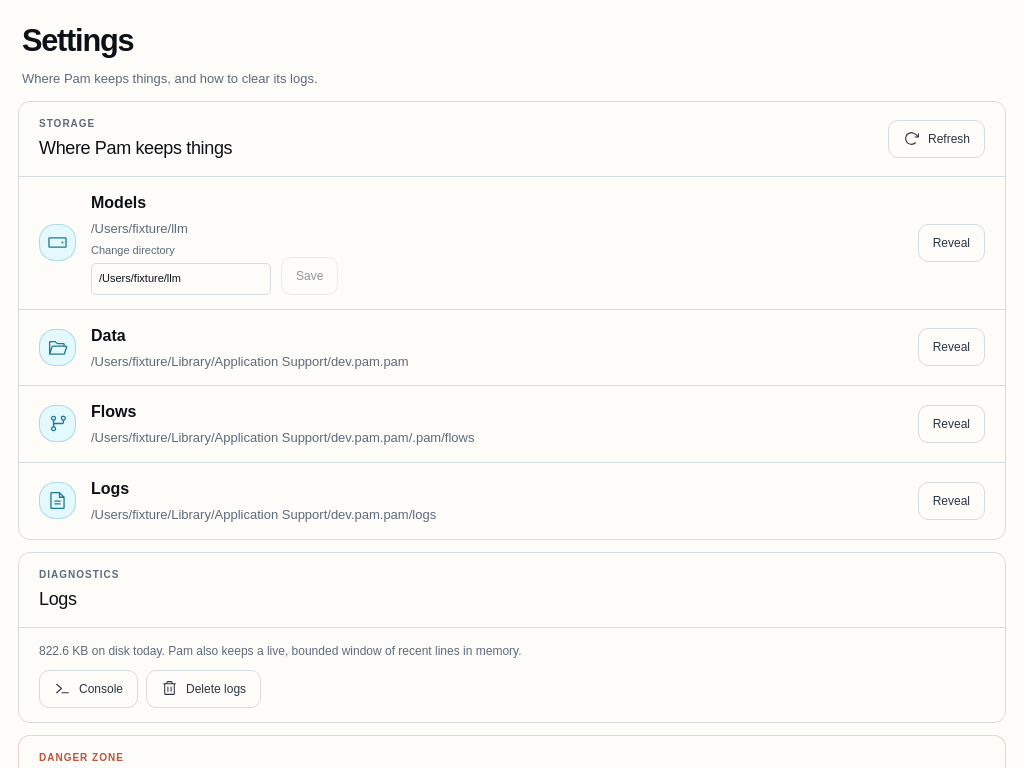
Test: SettingsView › deletes on-disk logs only after an explicit confirmation step
The width and height of the screenshot is (1024, 768).
Expected: the text "on disk today" is shown, [88,644,522,658]
What coordinates should you click on to do the following:
click the button "Delete logs"
I would click on:
 (204, 689)
Its box is [146,670,261,708].
(page scrolled)
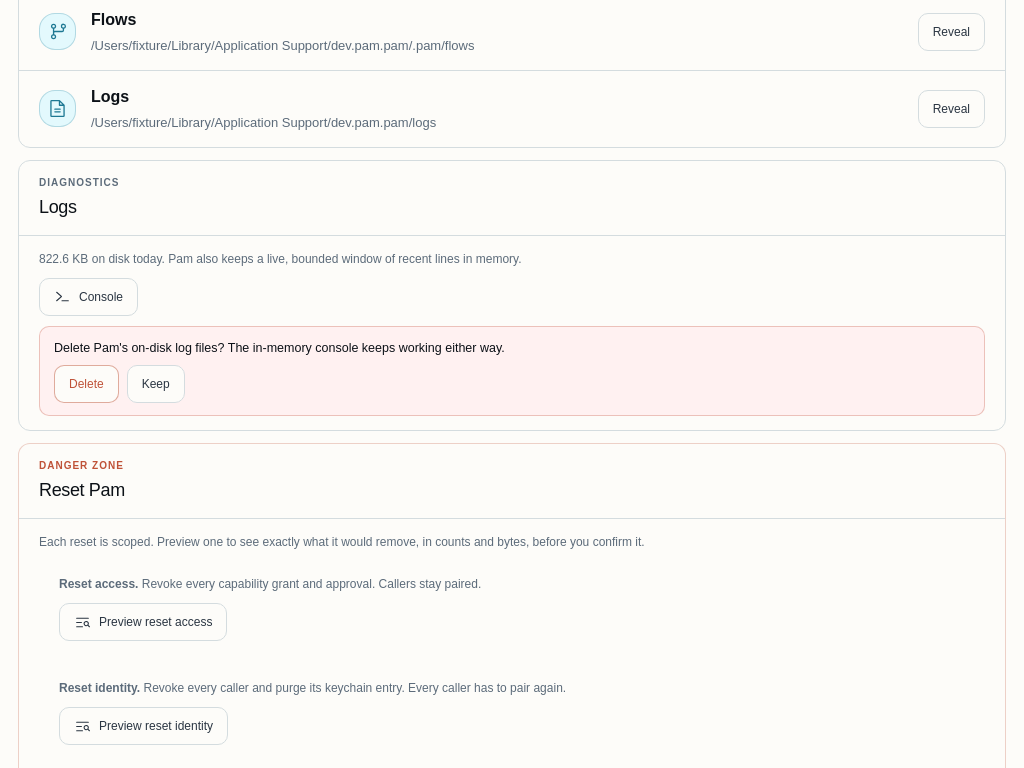
Now the text "Delete Pam's on-disk log files?" is shown, box [54,341,505,355]
What coordinates should you click on to do the following:
click the button "Keep"
I would click on:
 (156, 384)
Its box is [127,365,185,403].
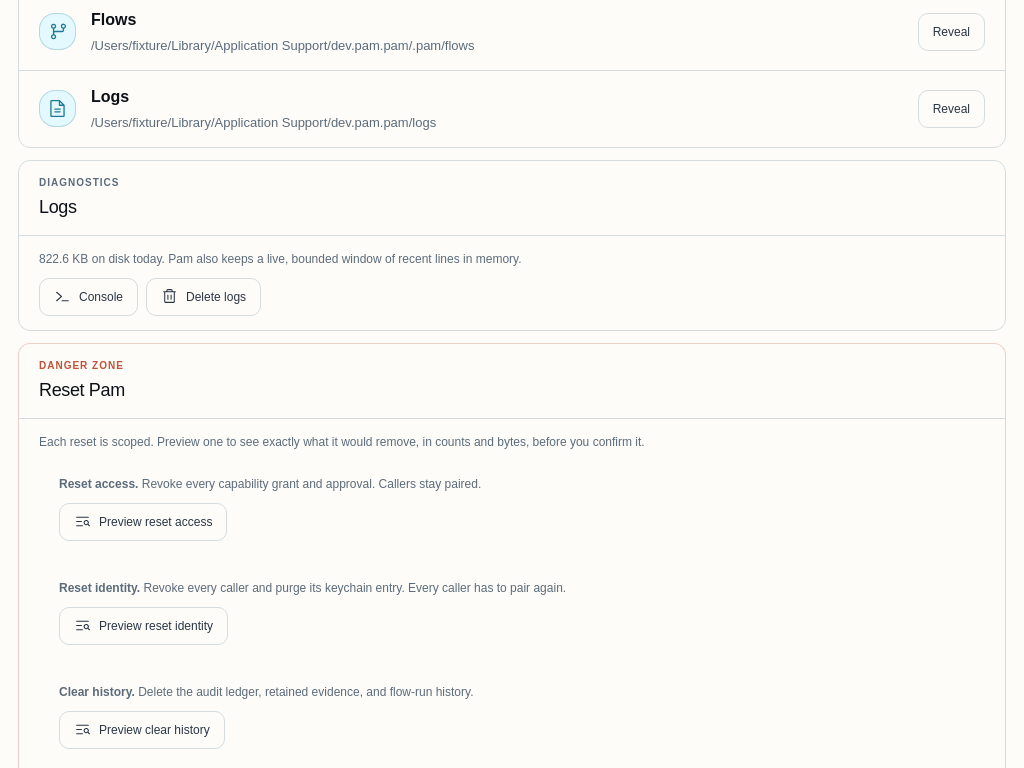
Now the text "Delete Pam's on-disk log files?" is gone
What coordinates should you click on to do the following:
click the button "Delete logs"
I would click on:
 (204, 297)
Its box is [146,278,261,316].
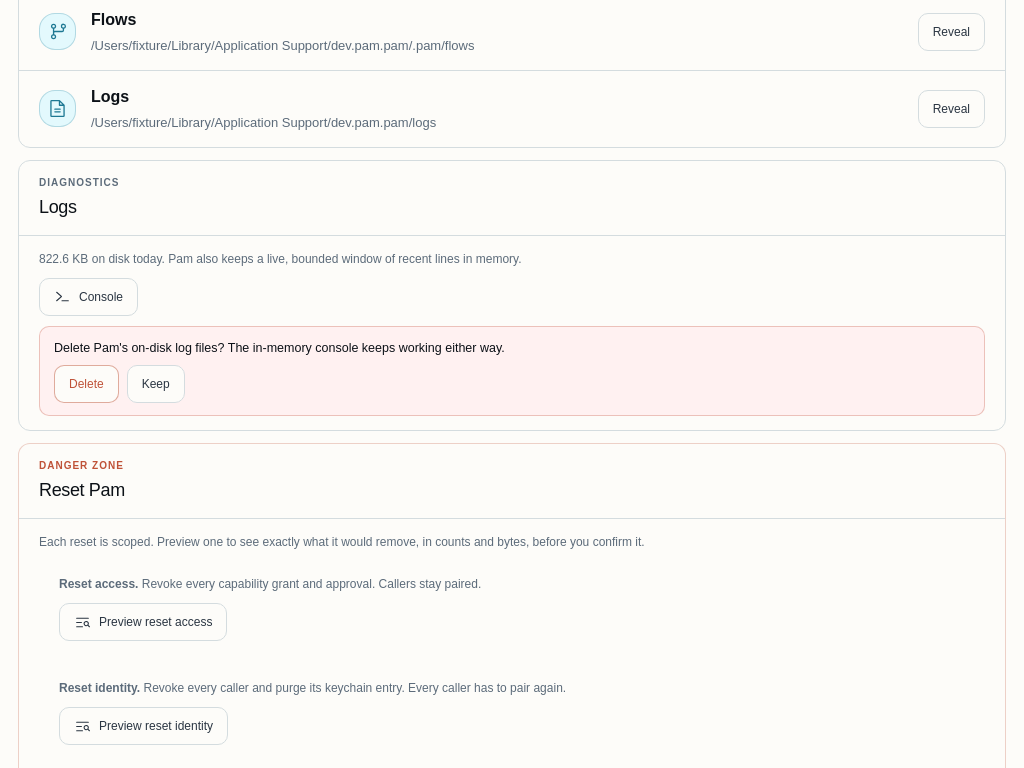
What coordinates should you click on to do the following:
click the button "Delete"
I would click on:
 (86, 384)
Its box is [54,365,119,403].
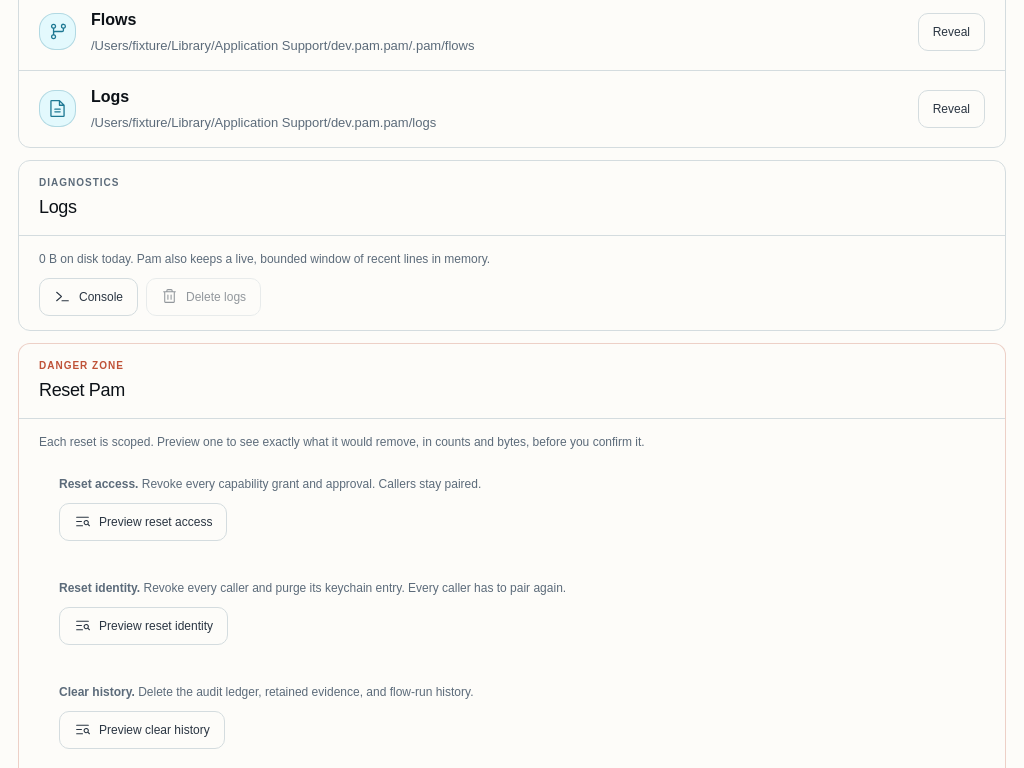
Now the text "0 B on disk today" is shown, box [39,250,490,268]
